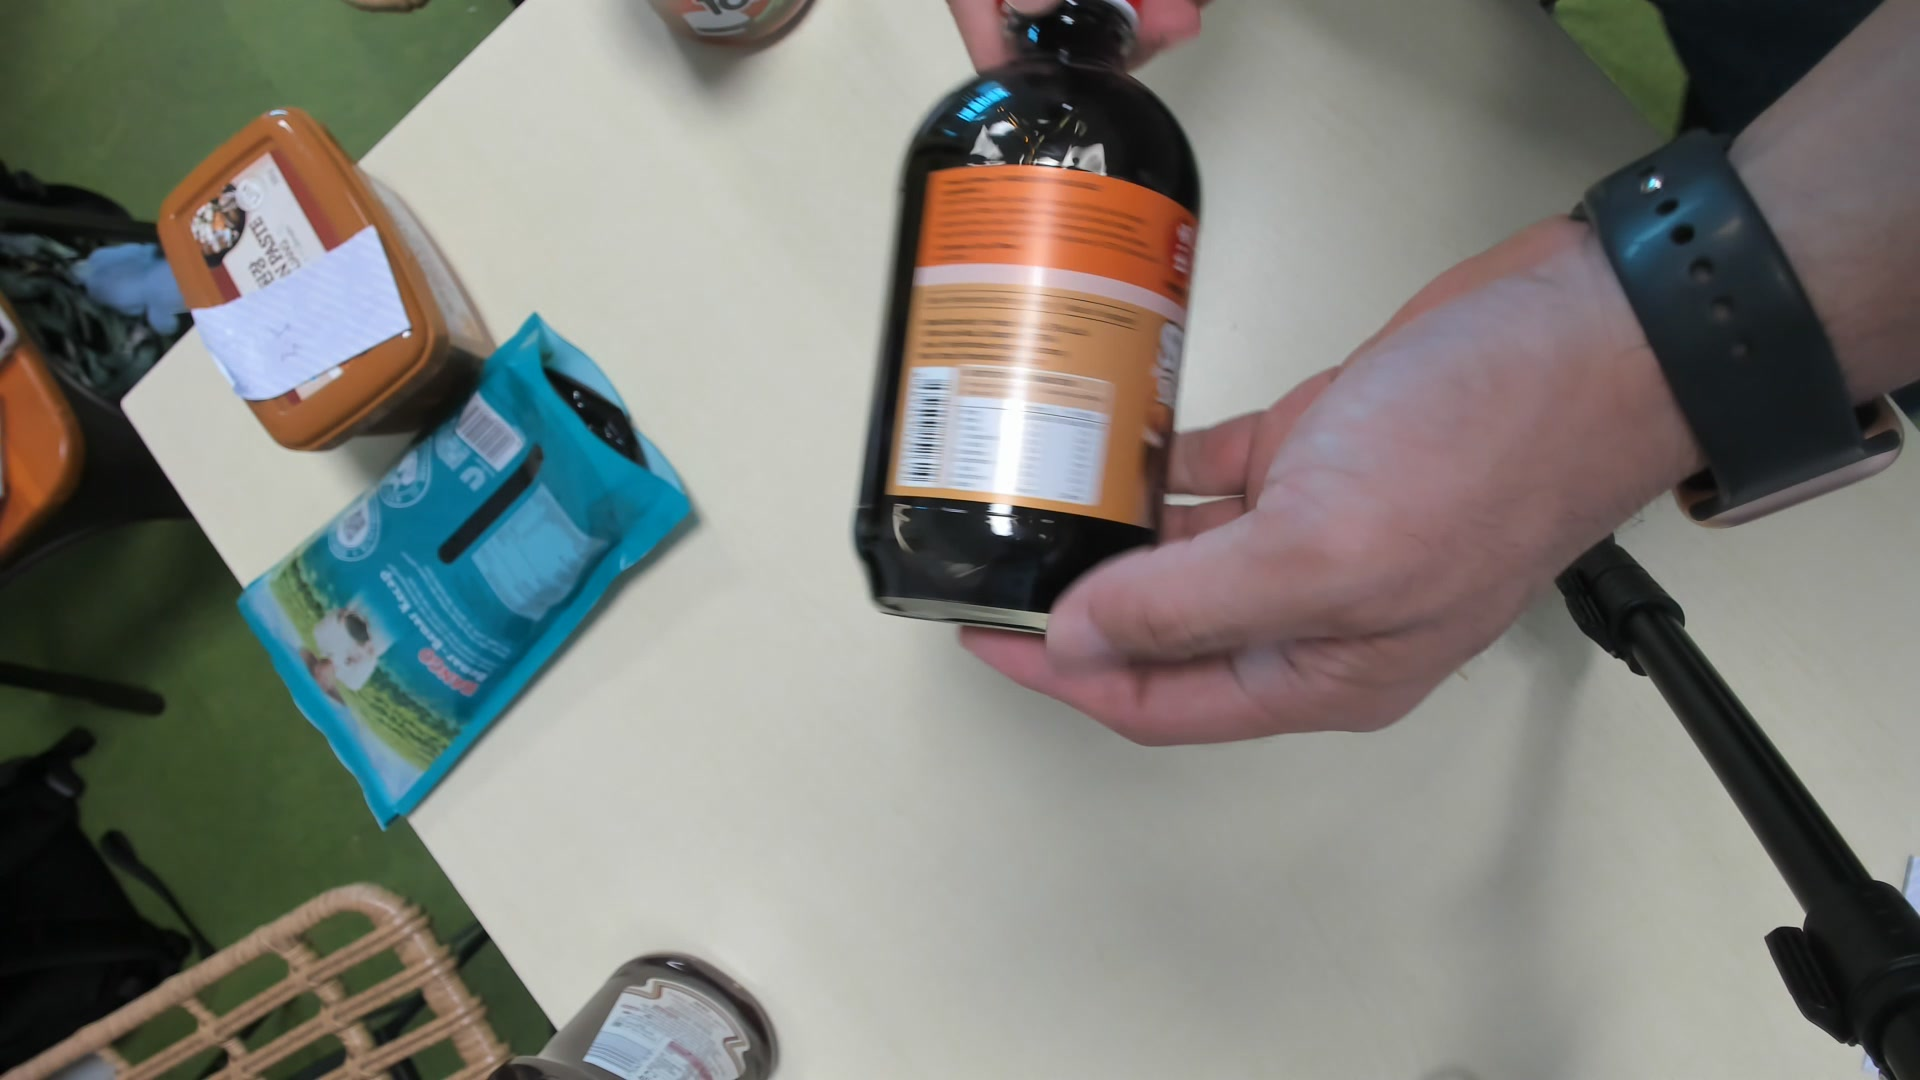OtherSauceDressing_400-499g_NonHalal_NonHealthy: (855, 7, 1205, 640)
